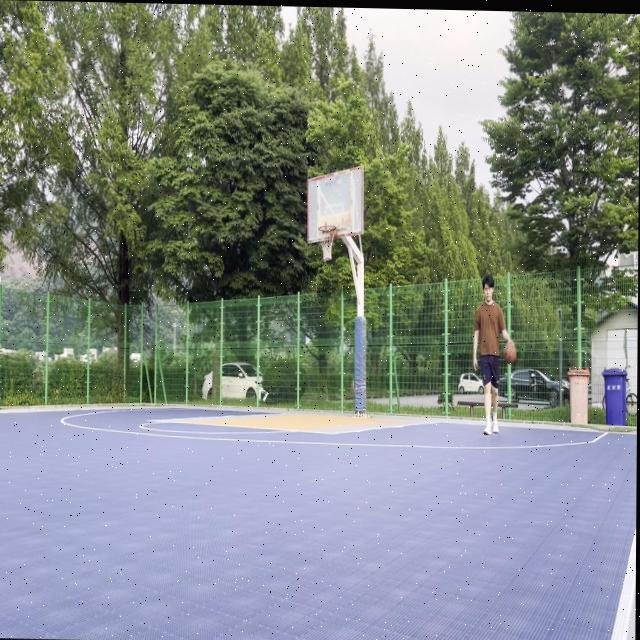basketball: (503, 342, 516, 365)
hoop: (318, 224, 337, 262)
